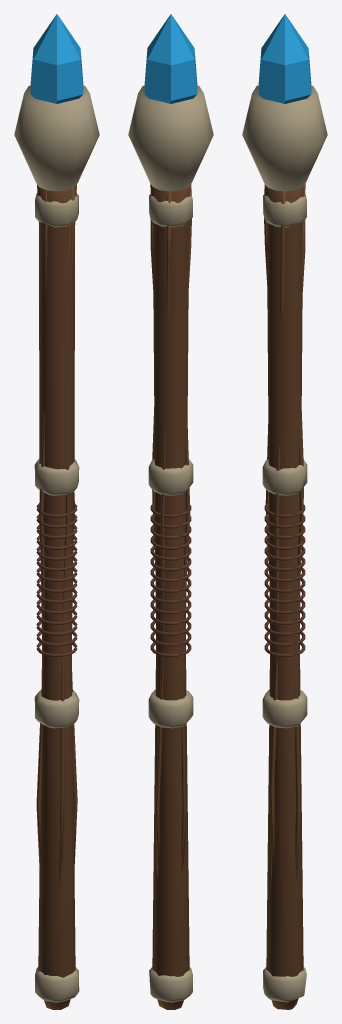
The model's file is wooden-staff-standard-high.glb.
3 renders of one model, left to right at view 1: azimuth 30°, elevation 25°; view 2: azimuth 150°, elevation 25°; view 3: azimuth 330°, elevation 25°, orthographic.
Parts seen in each view (by area): view 1: wooden-staff__standard; view 2: wooden-staff__standard; view 3: wooden-staff__standard.
Part boxes in pixels (bbox=[...]): wooden-staff__standard: bbox=[14, 14, 99, 1009]; wooden-staff__standard: bbox=[128, 14, 213, 1009]; wooden-staff__standard: bbox=[242, 14, 327, 1009].
Size of the model in its own units: 0.13 by 1.66 by 0.13.
